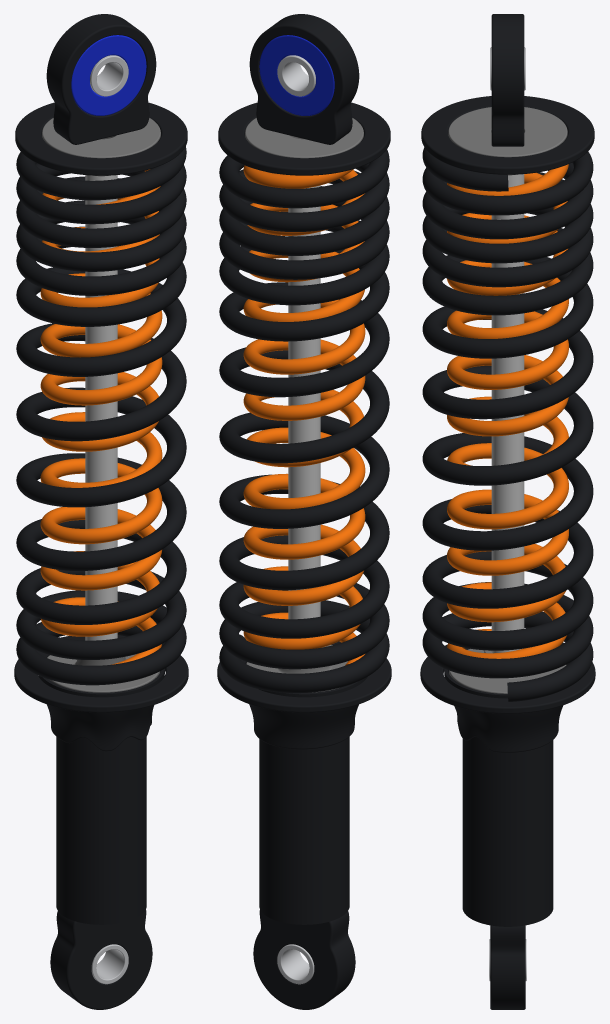
The model's file is rear-sns-rest-assembly-v2.glb.
3 views of the same model, side by side, from view 1: azimuth 30°, elevation 25°; view 2: azimuth 150°, elevation 25°; view 3: azimuth 270°, elevation 25° (orthographic).
Visible parts, largest first — view 1: Related SNS black outer spring - estimated gray study, Related SNS orange inner spring - estimated gray study, Related SNS lower body exterior skin - estimated, SNS opposite black eye and neck exterior - estimated, SNS body-side black eye and neck exterior - estimated, SNS reflective axial shaft exterior - estimated, SNS opposite spring rim - estimated continuation, SNS collar - observed front and estimated back, SNS body-side spring rim - estimated continuation, SNS opposite broadblue annular region - estimated continuati, SNS opposite support and rod-end cover - estimated continuat, SNS body-side support and rod-end cover - estimated continua (+2 smaller); view 2: Related SNS black outer spring - estimated gray study, Related SNS orange inner spring - estimated gray study, Related SNS lower body exterior skin - estimated, SNS opposite black eye and neck exterior - estimated, SNS body-side black eye and neck exterior - estimated, SNS opposite spring rim - estimated continuation, SNS reflective axial shaft exterior - estimated, SNS collar - observed front and estimated back, SNS opposite broadblue annular region - estimated continuati, SNS body-side spring rim - estimated continuation, SNS opposite support and rod-end cover - estimated continuat, SNS opposite central sleeve - estimated continuation (+2 smaller); view 3: Related SNS black outer spring - estimated gray study, Related SNS orange inner spring - estimated gray study, Related SNS lower body exterior skin - estimated, SNS opposite spring rim - estimated continuation, SNS reflective axial shaft exterior - estimated, SNS opposite black eye and neck exterior - estimated, SNS collar - observed front and estimated back, SNS opposite support and rod-end cover - estimated continuat, SNS body-side spring rim - estimated continuation, SNS body-side black eye and neck exterior - estimated, SNS body-side support and rod-end cover - estimated continua.
Part boxes in pixels (x1,y1,x2,y2): Related SNS black outer spring - estimated gray study: (16, 146, 186, 685); Related SNS orange inner spring - estimated gray study: (40, 169, 162, 664); Related SNS lower body exterior skin - estimated: (56, 737, 146, 924); SNS opposite black eye and neck exterior - estimated: (46, 14, 156, 144); SNS body-side black eye and neck exterior - estimated: (50, 909, 152, 1009); SNS reflective axial shaft exterior - estimated: (85, 175, 117, 640); SNS opposite spring rim - estimated continuation: (15, 102, 187, 175); SNS collar - observed front and estimated back: (38, 654, 164, 751); SNS body-side spring rim - estimated continuation: (14, 635, 188, 712); SNS opposite broadblue annular region - estimated continuati: (71, 35, 146, 115); SNS opposite support and rod-end cover - estimated continuat: (42, 118, 160, 176); SNS body-side support and rod-end cover - estimated continua: (47, 654, 159, 692); Related SNS black outer spring - estimated gray study: (219, 149, 389, 693); Related SNS orange inner spring - estimated gray study: (243, 165, 365, 665); Related SNS lower body exterior skin - estimated: (259, 737, 349, 924); SNS opposite black eye and neck exterior - estimated: (249, 14, 359, 144); SNS body-side black eye and neck exterior - estimated: (253, 909, 355, 1009); SNS opposite spring rim - estimated continuation: (218, 102, 390, 175); SNS reflective axial shaft exterior - estimated: (288, 185, 320, 619); SNS collar - observed front and estimated back: (242, 643, 366, 749); SNS opposite broadblue annular region - estimated continuati: (259, 35, 334, 115); SNS body-side spring rim - estimated continuation: (217, 641, 391, 712); SNS opposite support and rod-end cover - estimated continuat: (245, 118, 363, 158); SNS opposite central sleeve - estimated continuation: (277, 55, 315, 96); Related SNS black outer spring - estimated gray study: (422, 147, 593, 701); Related SNS orange inner spring - estimated gray study: (447, 164, 568, 658); Related SNS lower body exterior skin - estimated: (462, 736, 553, 926); SNS opposite spring rim - estimated continuation: (421, 96, 594, 174); SNS reflective axial shaft exterior - estimated: (491, 174, 524, 653); SNS opposite black eye and neck exterior - estimated: (491, 14, 524, 146); SNS collar - observed front and estimated back: (444, 648, 568, 752); SNS opposite support and rod-end cover - estimated continuat: (448, 107, 567, 175); SNS body-side spring rim - estimated continuation: (420, 642, 595, 713); SNS body-side black eye and neck exterior - estimated: (490, 925, 525, 1009); SNS body-side support and rod-end cover - estimated continua: (449, 648, 566, 693).
Size of the model in its own units: 0.059 by 0.3668 by 0.059.
